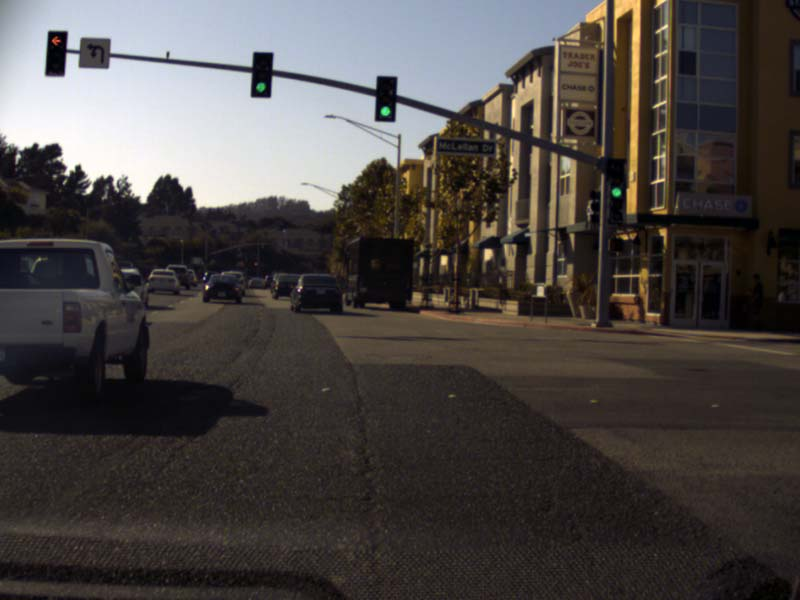Green: (374, 74, 395, 122), (251, 51, 270, 98), (607, 164, 622, 223)
Red: (46, 30, 67, 77), (253, 262, 258, 266)
